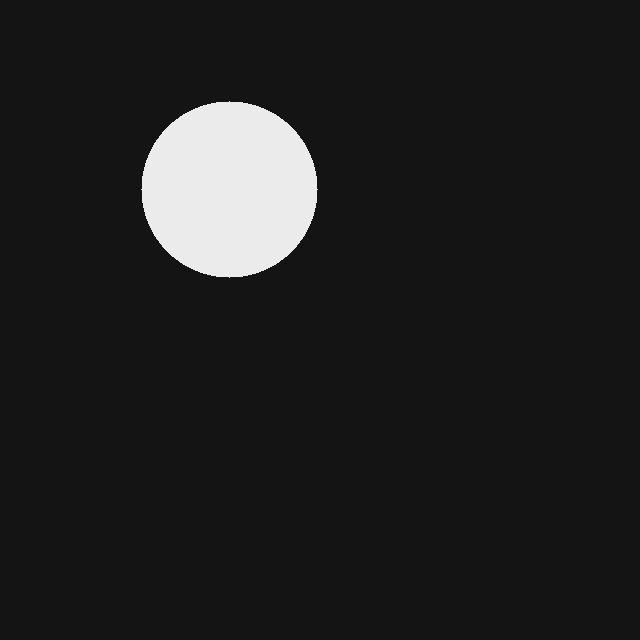circle: (141, 101, 317, 277)
